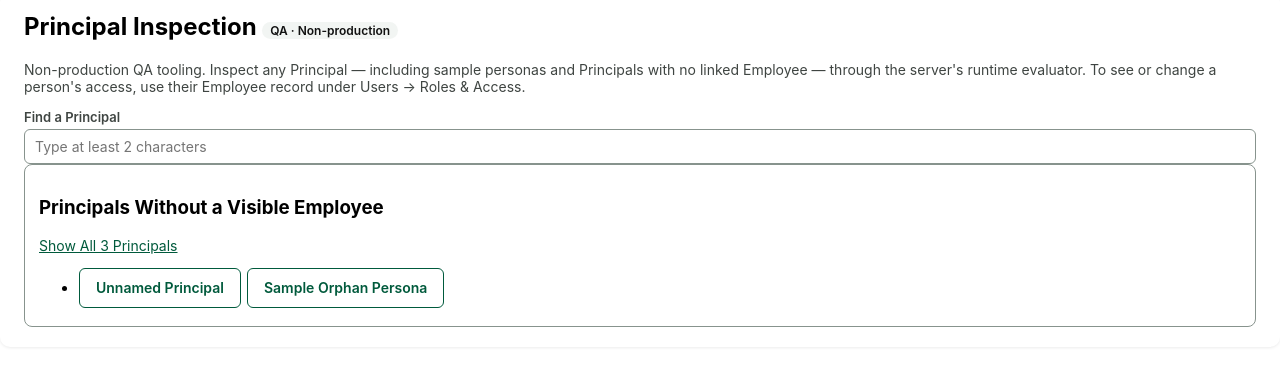
Test: Principal Inspection (nonprod QA) -- the retired Permission Preview's unique functions › lists, by default, only Principals WITHOUT a visible linked Employee (the function no Employee record can reach)
This screenshot has width=1280, height=365.
Expected: the list is shown, [79,268,444,308]
Expected: the button "Sample Orphan Persona" is shown, [247,268,444,308]
Click the button "Show All 3 Principals".
click(108, 246)  # box [39,237,178,254]
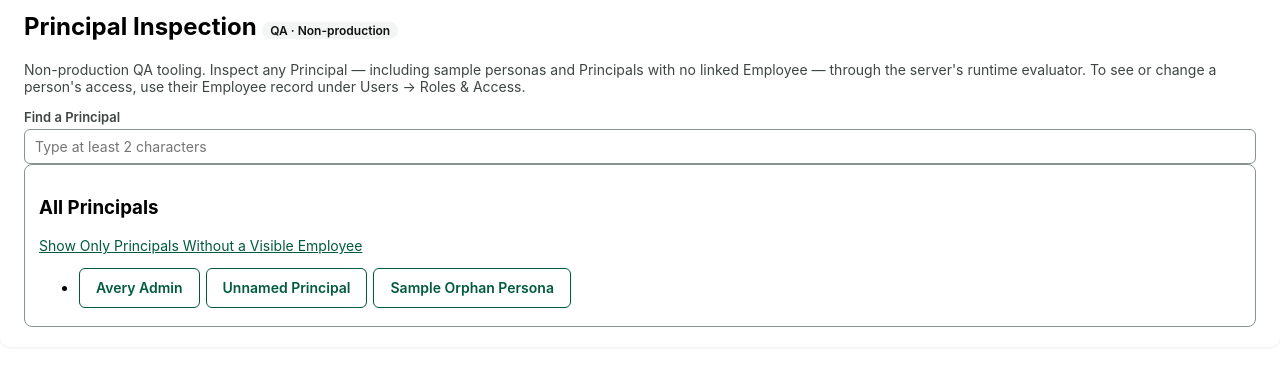
Expected: the button "Avery Admin" is shown, [79,268,200,308]
